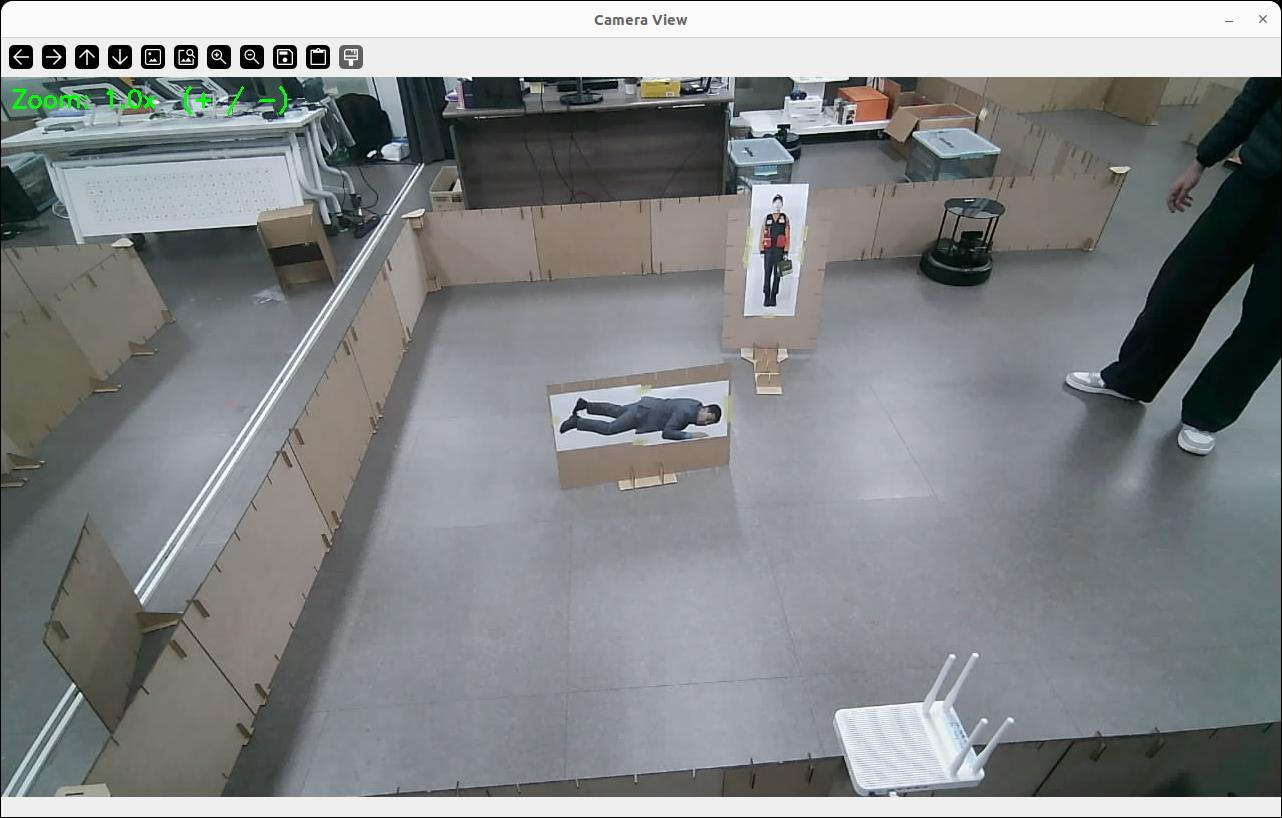Patient: (561, 396, 720, 440)
Responder: (762, 195, 789, 306)
Robot: (920, 198, 1005, 285)
